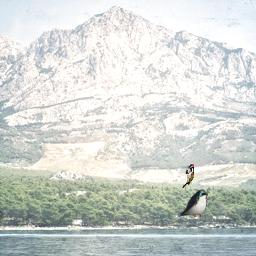Swallow: (178, 189, 208, 217)
Woodpecker: (182, 164, 194, 188)
